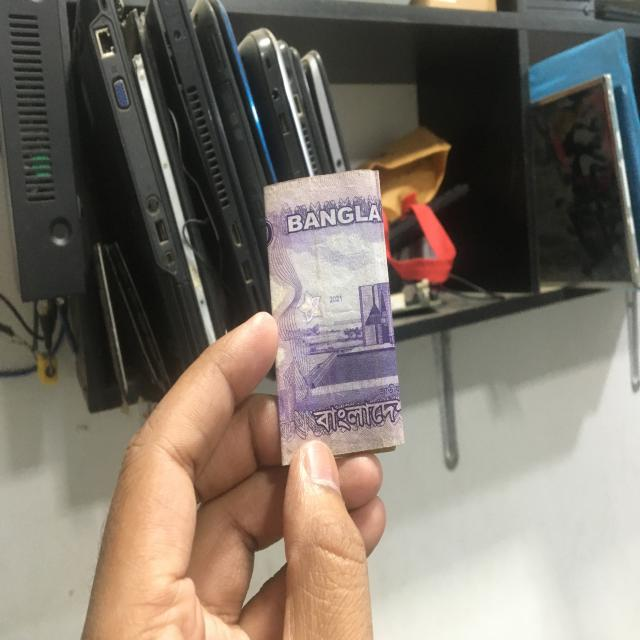Taka: (262, 173, 405, 455)
